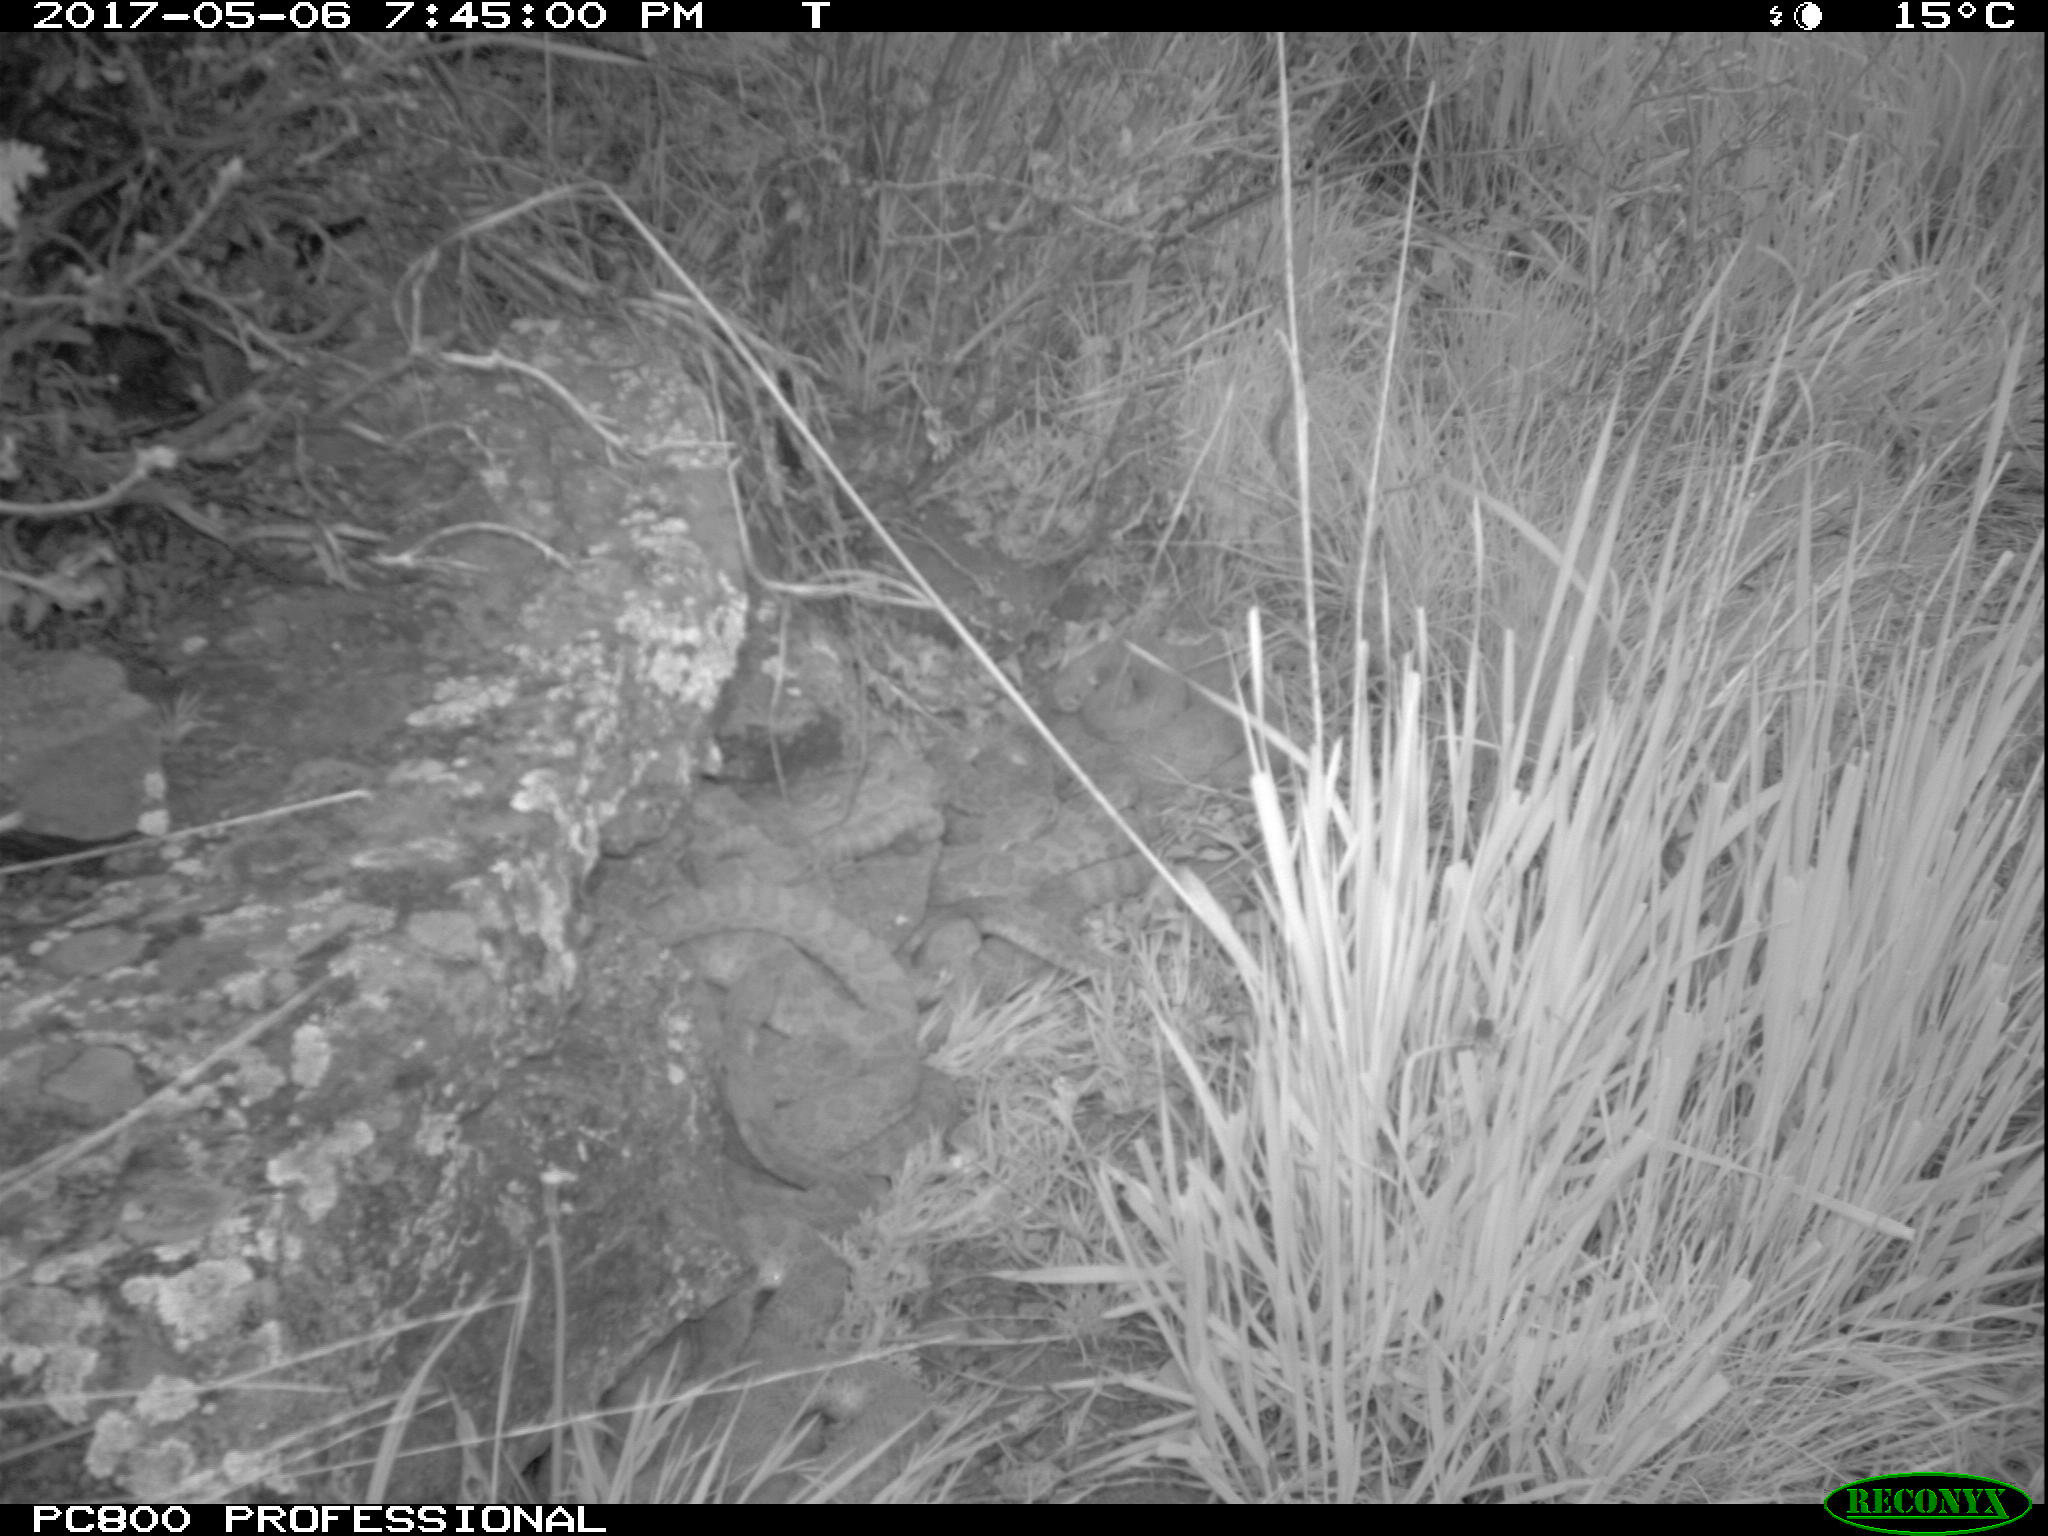snake: (684, 925, 956, 1179), (676, 1242, 947, 1471), (643, 874, 963, 1034), (937, 795, 1171, 975), (1048, 631, 1292, 791), (685, 770, 974, 900)
